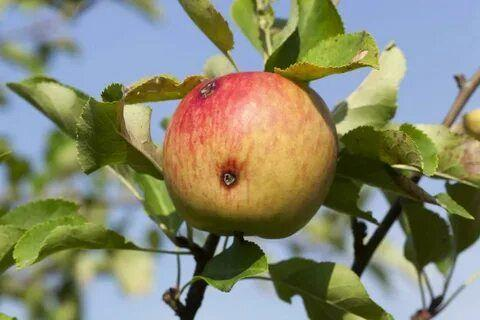Apple: (161, 71, 338, 238)
